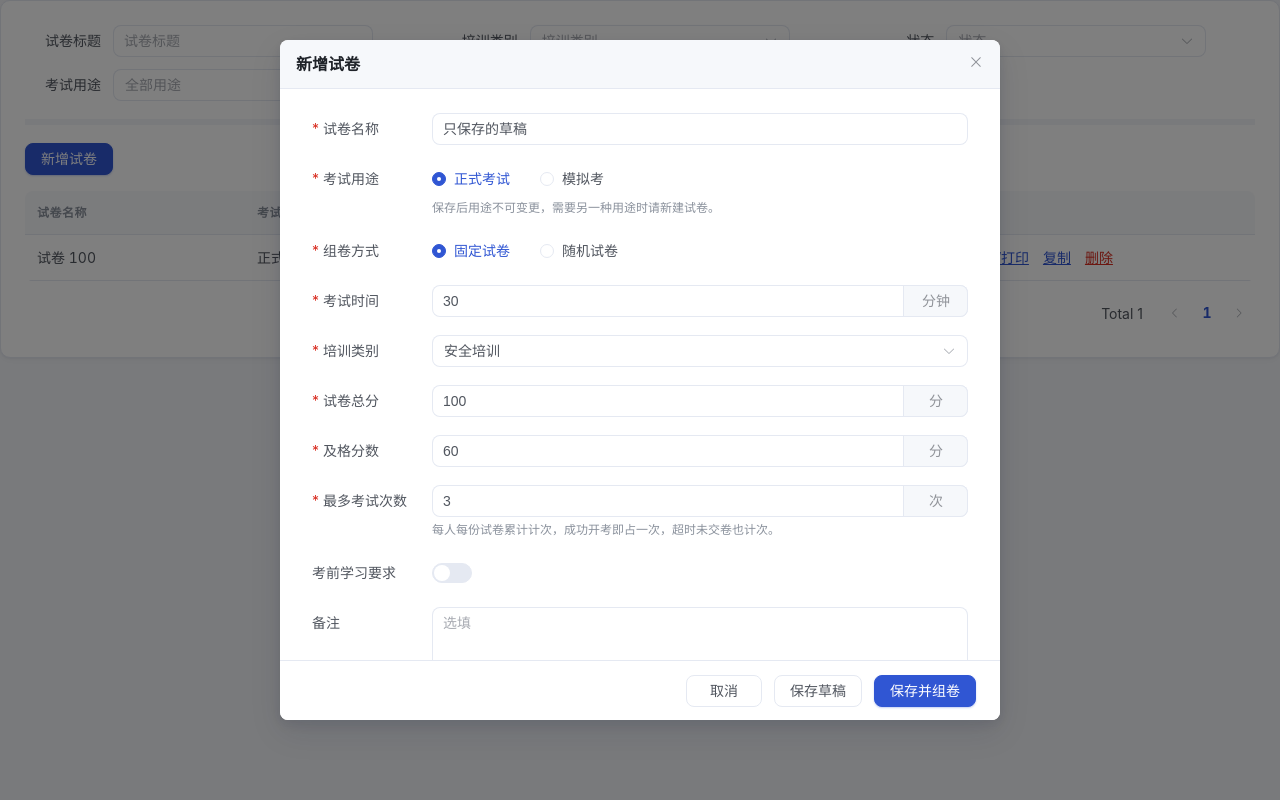
Scenario: main fixed paper entry › saves a draft on the list without opening the designer and prevents a second save action while pending
The image size is (1280, 800).
Expected: the button "保存并组卷" is shown, [874,674,976,706]
Click the button "保存草稿": coordinates (818, 690) [774,674,862,706]
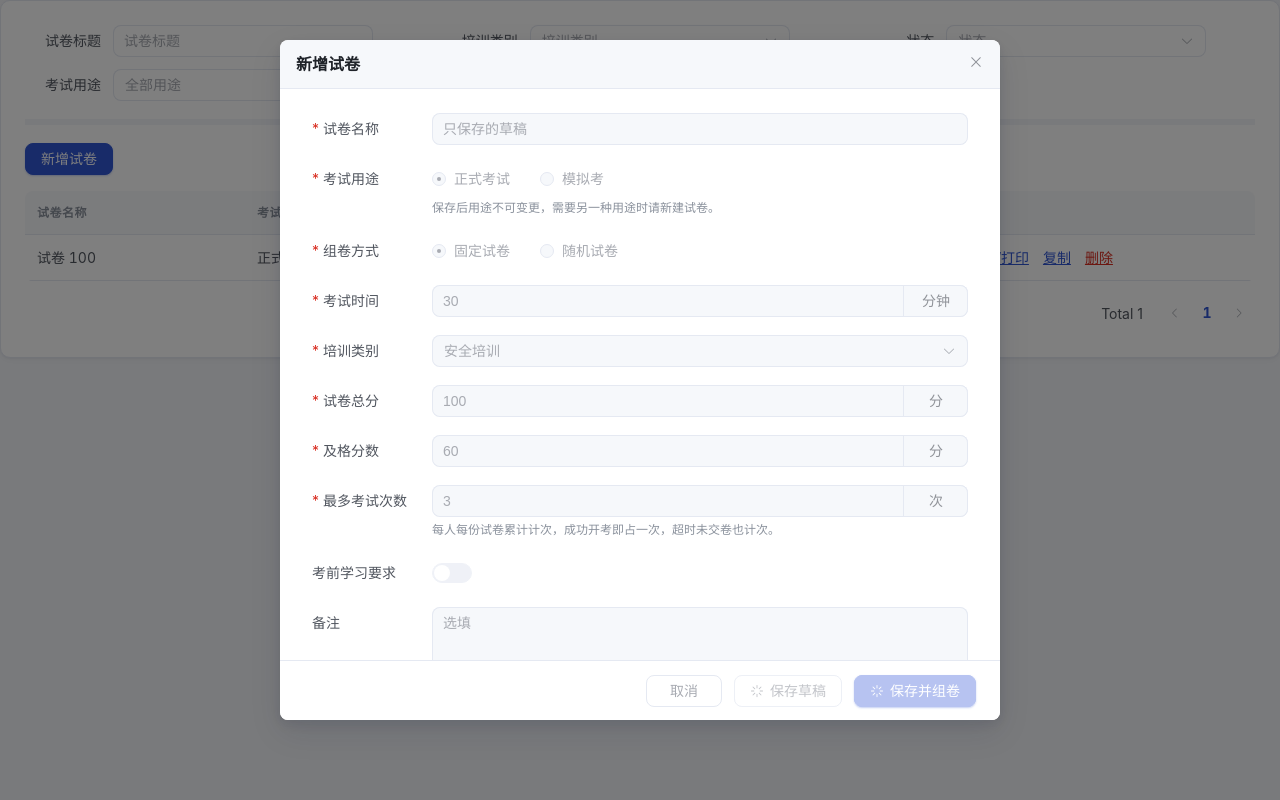
Expected: the button "保存草稿" is disabled, [734,674,842,706]
Expected: the button "保存并组卷" is disabled
Click the button "保存并组卷": coordinates (915, 690) [854,674,976,706]
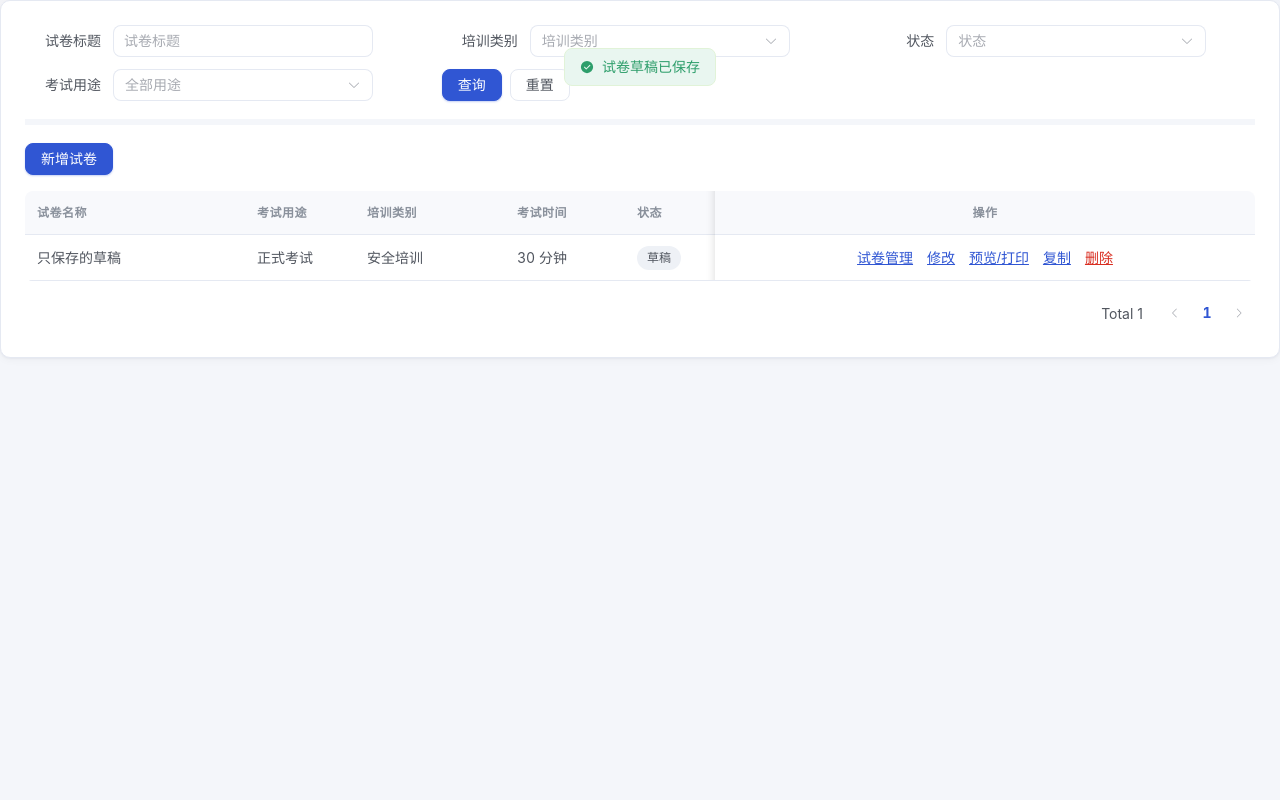
Expected: the element that starts with "试卷标题" shows "只保存的草稿", [37,249,121,266]
